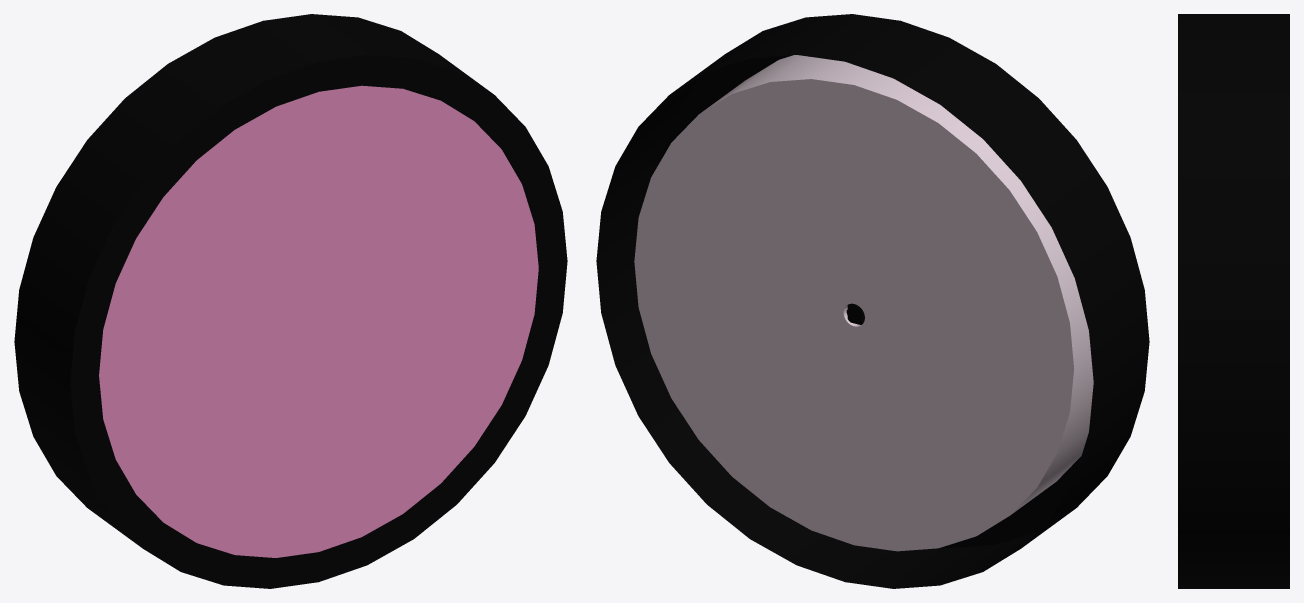
File: Clock_1.fbx
3 views of the same model, side by side, from view 1: azimuth 30°, elevation 25°; view 2: azimuth 150°, elevation 25°; view 3: azimuth 270°, elevation 25° (orthographic).
Parts seen in each view (by area): view 1: Cylinder.002; view 2: Cylinder.002; view 3: Cylinder.002.
Boxes of the visible parts, left/top/right/bottom form: Cylinder.002: left=14, top=14, right=567, bottom=588; Cylinder.002: left=596, top=14, right=1149, bottom=588; Cylinder.002: left=1178, top=14, right=1289, bottom=588.
Size of the model in its own units: 71.85 by 71.85 by 13.97.
